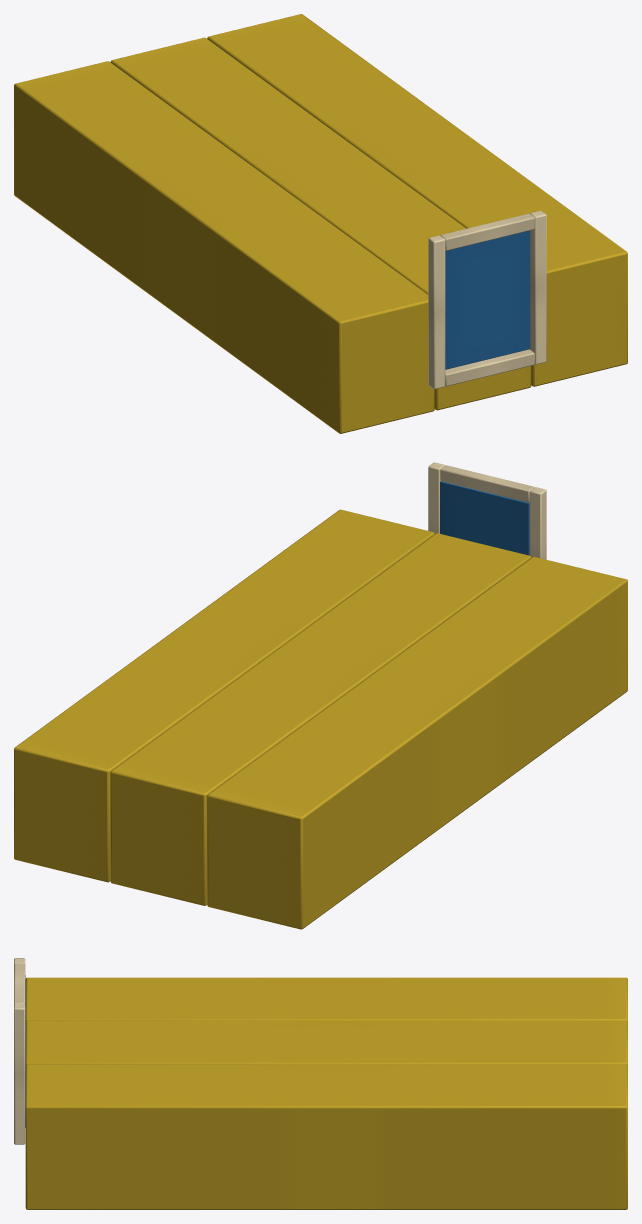
Rendered from 4-left-toy-leg-course-4.fbx.
3 renders of one model, top to bottom at view 1: azimuth 30°, elevation 25°; view 2: azimuth 150°, elevation 25°; view 3: azimuth 270°, elevation 25°, orthographic. The views are drawn at different scales.
Parts seen in each view (by area): view 1: left-toy-leg-course-4; view 2: left-toy-leg-course-4; view 3: left-toy-leg-course-4.
Boxes of the visible parts, x1=… form: left-toy-leg-course-4: x1=14, y1=14, x2=627, y2=433; left-toy-leg-course-4: x1=14, y1=462, x2=627, y2=929; left-toy-leg-course-4: x1=14, y1=958, x2=627, y2=1209.
Bounding box in the file's own units: 4085 × 2380 × 8155.
1 material, 1 textured.
